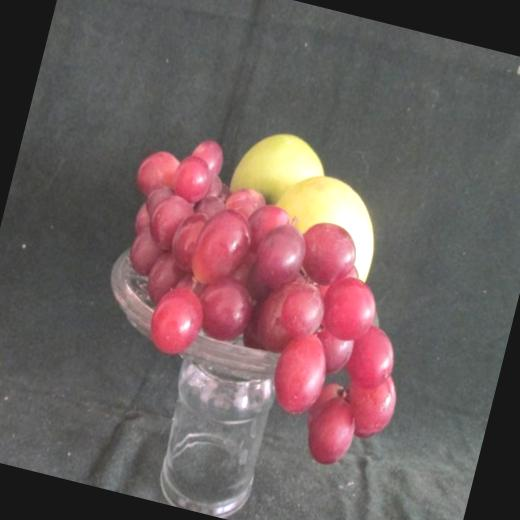Orange: (80, 127, 446, 477)
